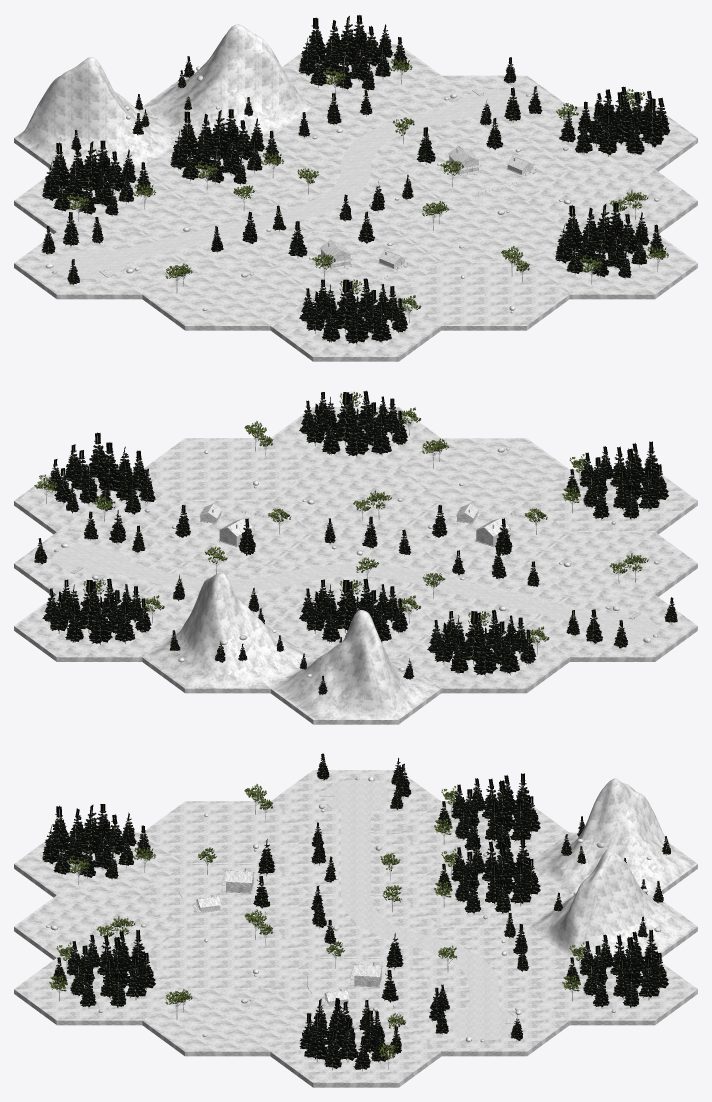
Rendered from paisaje_demo.glb.
3 renders of one model, top to bottom at view 1: azimuth 30°, elevation 25°; view 2: azimuth 150°, elevation 25°; view 3: azimuth 270°, elevation 25°, orthographic.
Parts seen in each view (by area): view 1: montana [-1,2].002, montana [-2,2].002, bosque [2,-2].002, bosque [0,-2].002, bosque [-2,1].002, bosque [2,0].002, bosque [-1,1].002, laguna [-2,0].002, bosque [0,2].002, pradera [1,-2].002, pradera [-1,-1].002, caserio [1,0].002 (+7 smaller); view 2: montana [-1,2].002, montana [-2,2].002, bosque [0,-2].002, bosque [-2,1].002, bosque [2,0].002, bosque [0,2].002, bosque [2,-2].002, laguna [-2,0].002, pradera [2,-1].002, pradera [-1,-1].002, laguna [1,1].002, pradera [1,-2].002 (+7 smaller); view 3: bosque [0,2].002, bosque [2,-2].002, bosque [2,0].002, bosque [0,-2].002, montana [-1,2].002, montana [-2,2].002, bosque [-1,1].002, laguna [1,1].002, pradera [2,-1].002, bosque [-2,1].002, pradera [1,-1].002, caserio [0,-1].002 (+7 smaller).
Boxes of the visible parts, <box> form: montana [-1,2].002: <box>142,24,312,137</box>; montana [-2,2].002: <box>14,57,181,169</box>; bosque [2,-2].002: <box>527,203,697,299</box>; bosque [0,-2].002: <box>270,278,441,361</box>; bosque [-2,1].002: <box>14,140,184,233</box>; bosque [2,0].002: <box>527,86,697,171</box>; bosque [-1,1].002: <box>143,109,312,200</box>; laguna [-2,0].002: <box>14,212,184,299</box>; bosque [0,2].002: <box>282,15,440,106</box>; pradera [1,-2].002: <box>399,246,569,330</box>; pradera [-1,-1].002: <box>142,263,312,330</box>; caserio [1,0].002: <box>399,118,569,200</box>; montana [-1,2].002: <box>142,573,312,693</box>; montana [-2,2].002: <box>270,610,441,724</box>; bosque [0,-2].002: <box>527,441,697,534</box>; bosque [-2,1].002: <box>399,609,569,693</box>; bosque [2,0].002: <box>14,432,184,534</box>; bosque [0,2].002: <box>14,578,183,661</box>; bosque [2,-2].002: <box>270,390,441,469</box>; laguna [-2,0].002: <box>527,594,697,661</box>; pradera [2,-1].002: <box>144,421,312,500</box>; pradera [-1,-1].002: <box>527,532,697,596</box>; laguna [1,1].002: <box>14,510,184,596</box>; pradera [1,-2].002: <box>399,438,569,500</box>; bosque [0,2].002: <box>527,930,697,1025</box>; bosque [2,-2].002: <box>14,930,184,1025</box>; bosque [2,0].002: <box>270,998,441,1087</box>; bosque [0,-2].002: <box>14,804,184,897</box>; montana [-1,2].002: <box>527,848,697,957</box>; montana [-2,2].002: <box>533,778,697,895</box>; bosque [-1,1].002: <box>399,836,569,926</box>; laguna [1,1].002: <box>400,984,569,1056</box>; pradera [2,-1].002: <box>142,989,312,1056</box>; bosque [-2,1].002: <box>399,773,569,863</box>; pradera [1,-1].002: <box>148,909,312,989</box>; caserio [0,-1].002: <box>142,839,312,926</box>.
Bounding box in the file's own units: 17.32 × 2.21 × 16.
7 materials, 7 textured.
